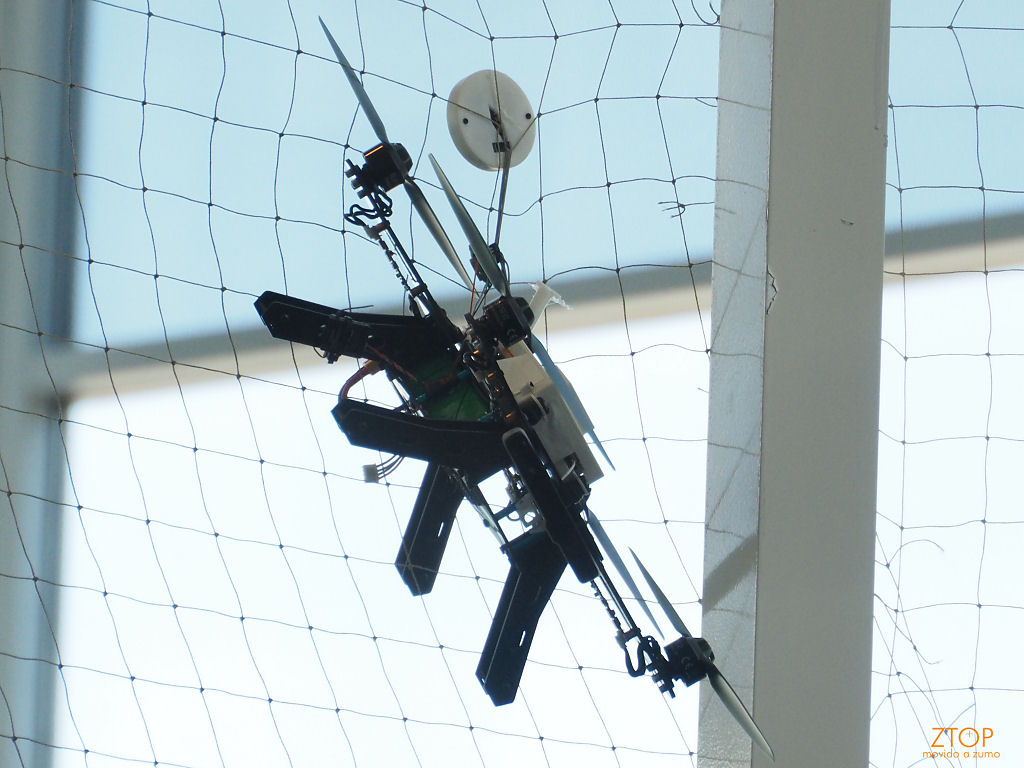drone: (251, 13, 777, 764)
